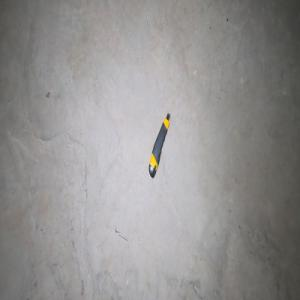Cutter: (148, 112, 170, 179)
